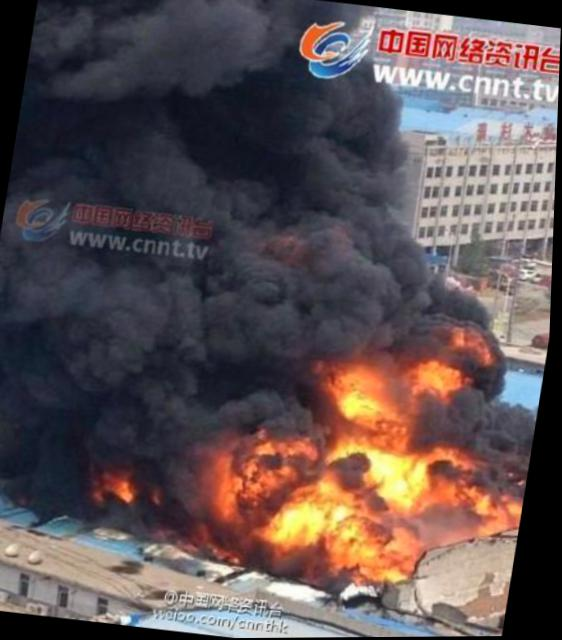fire: (364, 442, 435, 510), (330, 363, 399, 428), (263, 492, 329, 547), (327, 503, 379, 568), (367, 524, 422, 583), (472, 487, 525, 535), (407, 359, 463, 398), (258, 428, 318, 459), (211, 452, 240, 514), (431, 477, 483, 511), (311, 472, 361, 506), (237, 462, 284, 494), (326, 428, 372, 458), (105, 470, 137, 499)
